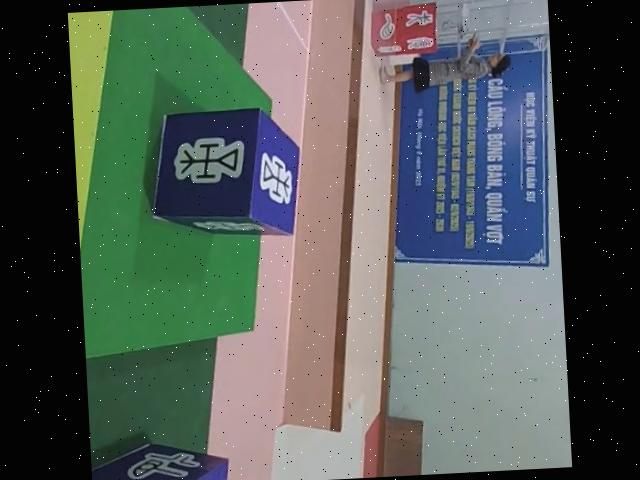R2 Real Blue: (146, 108, 306, 245), (90, 436, 225, 480)
